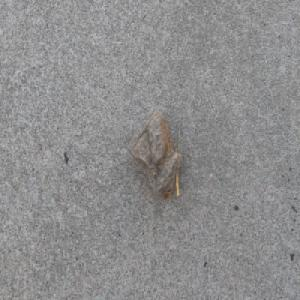Rock: (126, 107, 181, 200)
